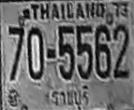0: (27, 27, 45, 80)
2: (114, 24, 130, 81)
5: (58, 25, 75, 80), (78, 24, 92, 78)
6: (95, 24, 111, 79)
7: (8, 26, 24, 81)
RBR: (50, 84, 91, 110)
